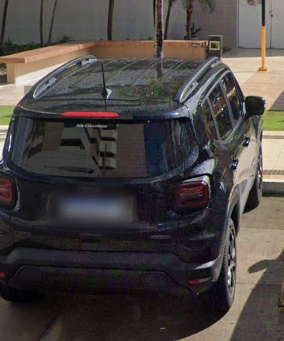car: (1, 53, 265, 313)
